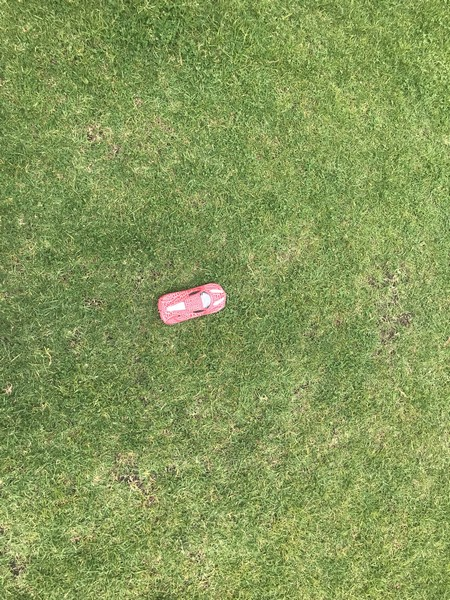RC: (157, 282, 228, 325)
